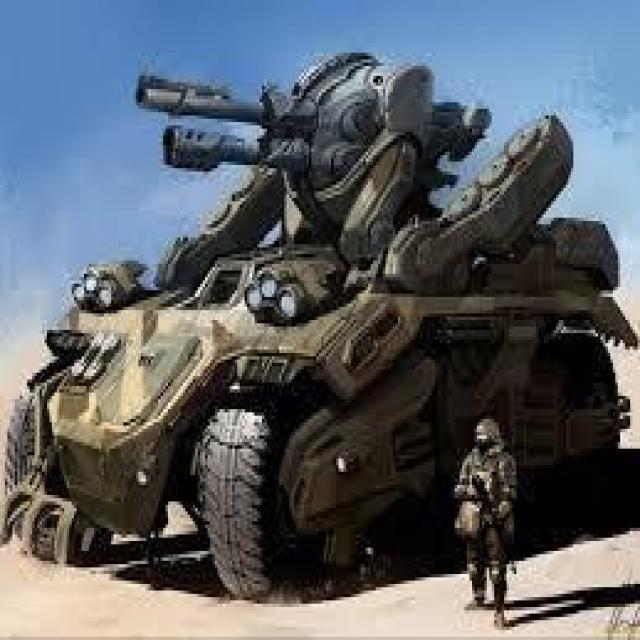MIL_MBT: (28, 16, 567, 600)
